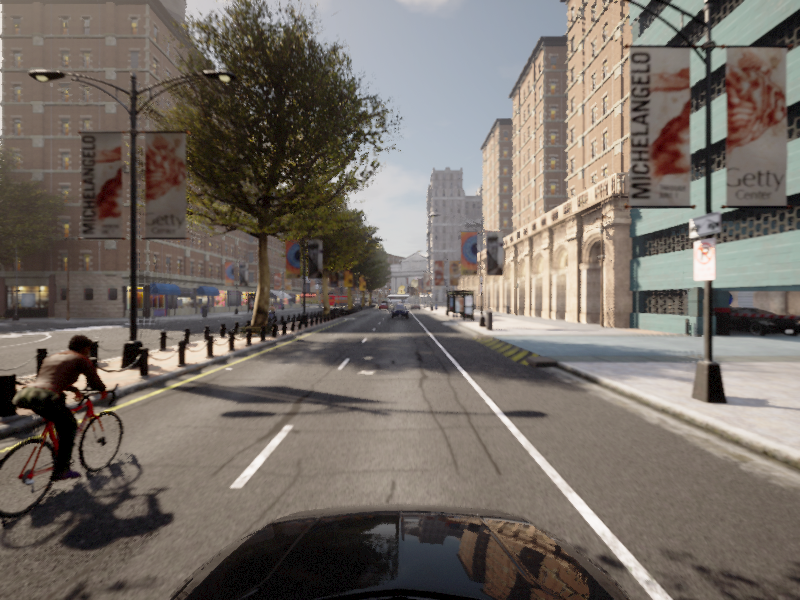vehicle: (1, 331, 146, 536), (264, 304, 279, 322), (391, 305, 408, 318), (256, 303, 269, 318)
